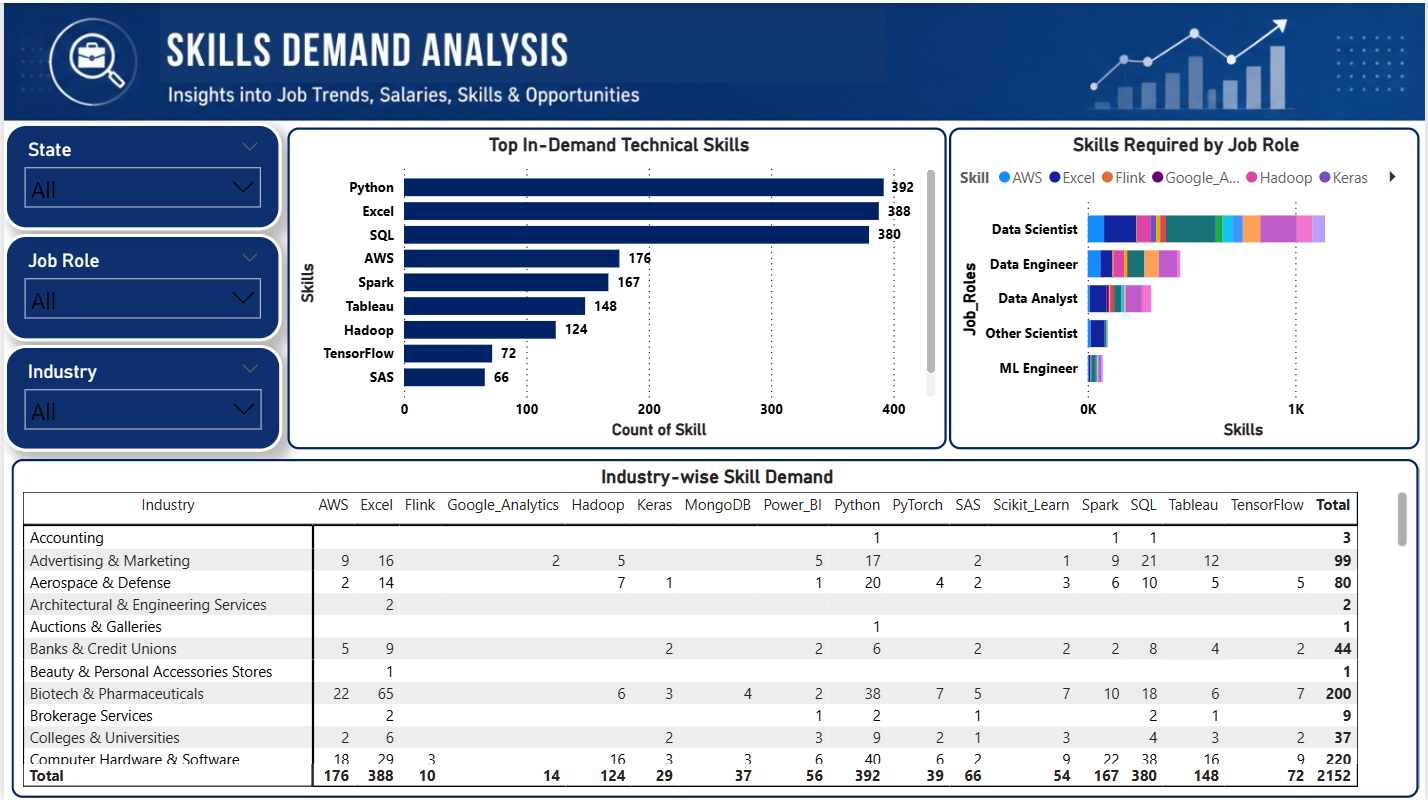

What the dashboard file says about the page in this screenshot:
{"tool":"powerbi","page":{"name":"SKILLS ANALYSIS","canvas":[1280,720],"ordinal":2},"visuals":[{"type":"slicer","fields":{"Values":["Job_Market_Analysis_Final.State_Wise"]},"box":[0,108.3,250,96.7],"z":0},{"type":"slicer","fields":{"Values":["Job_Market_Analysis_Final.Job_Category"]},"box":[0,208.3,250,96.7],"z":1},{"type":"slicer","fields":{"Values":["Job_Market_Analysis_Final.Industry"]},"box":[0,308.7,250.4,96.1],"z":2},{"type":"clusteredBarChart","title":"Top In-Demand Technical Skills","fields":{"Category":["Skills table.Skill"],"Y":["Sum(Skills table.Skill_Count)"]},"box":[255.2,111.8,593.8,289.8],"z":3},{"type":"barChart","title":"Skills Required by Job Role","fields":{"Category":["Skills table.Job_Category"],"Y":["Sum(Skills table.Skill_Count)"],"Series":["Skills table.Skill"]},"box":[852.1,111.8,423.7,289.8],"z":4},{"type":"pivotTable","title":"Industry-wise Skill Demand","fields":{"Rows":["Skills table.Industry"],"Values":["CountNonNull(Skills table.Skill_Count)"],"Columns":["Skills table.Skill"]},"box":[6.3,411.1,1267.9,305.6],"z":5}]}

Visuals, with their boxes in screenshot pixels (x1, y1, x2, y2), scaled from the page's 1280x720 canvas onto the 1428x800 screenshot:
slicer - Job_Market_Analysis_Final.State_Wise: 0, 120, 279, 228
slicer - Job_Market_Analysis_Final.Job_Category: 0, 231, 279, 339
slicer - Job_Market_Analysis_Final.Industry: 0, 343, 279, 450
"Top In-Demand Technical Skills" clusteredBarChart: 285, 124, 947, 446
"Skills Required by Job Role" barChart: 951, 124, 1423, 446
"Industry-wise Skill Demand" pivotTable: 7, 457, 1422, 796
